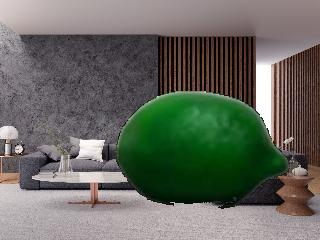lime: (109, 87, 292, 212)
